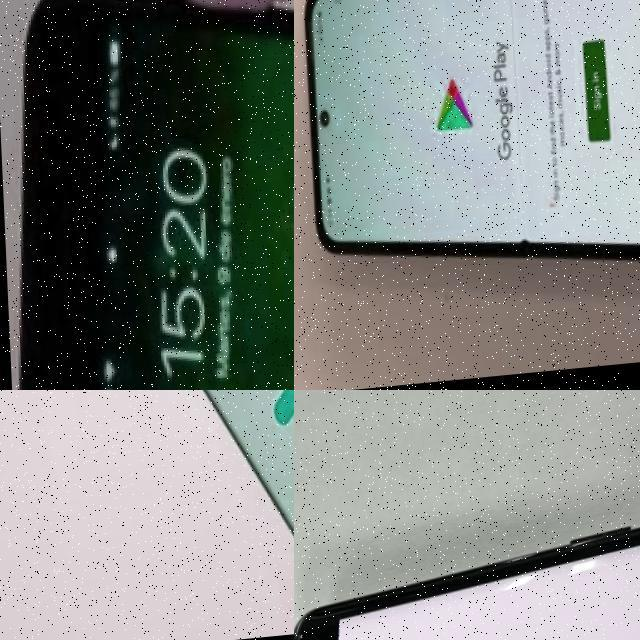dead pixel: (294, 556, 370, 640), (504, 218, 537, 271), (175, 390, 203, 405)
